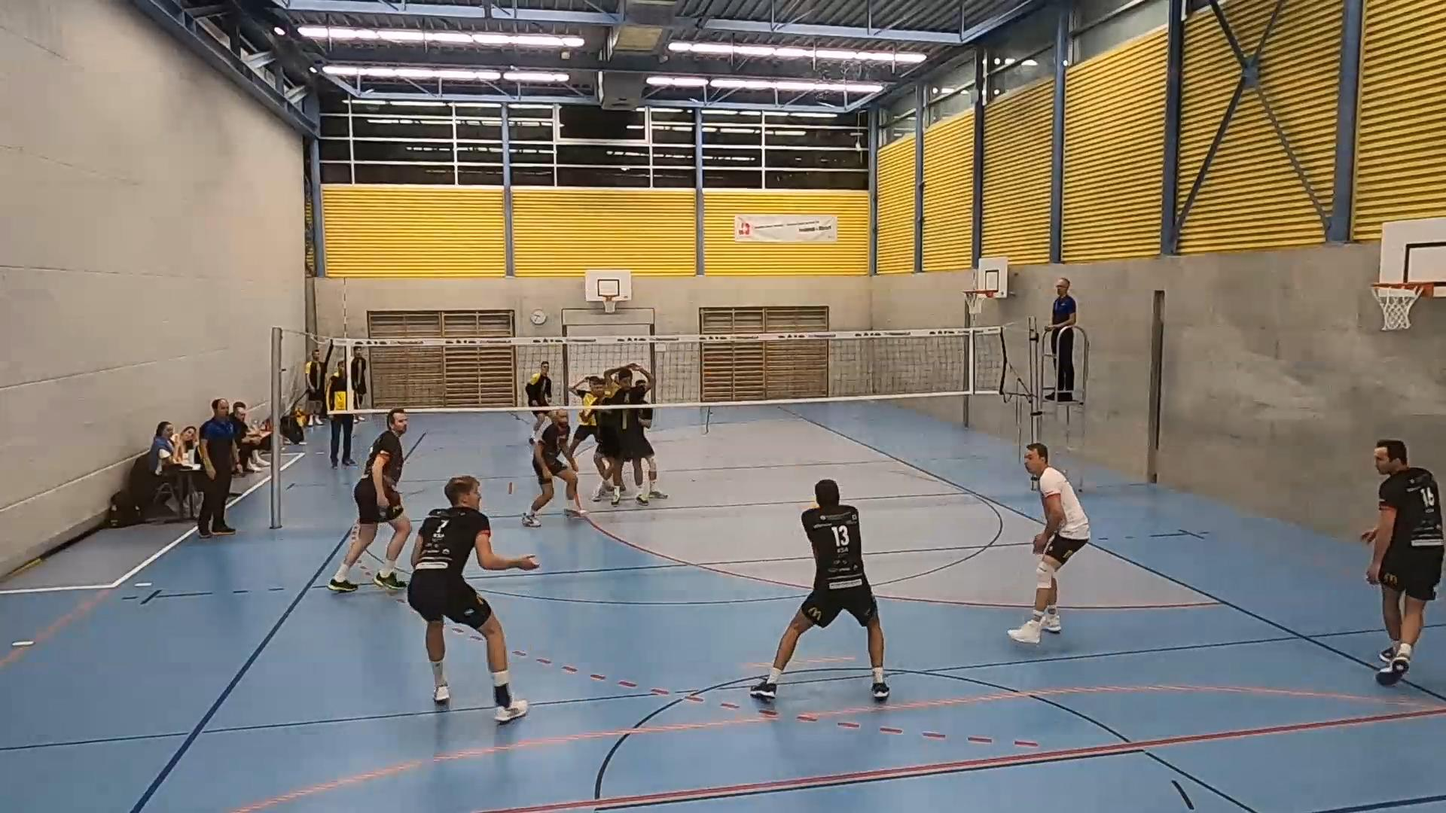ricezione: (746, 473, 891, 702)
